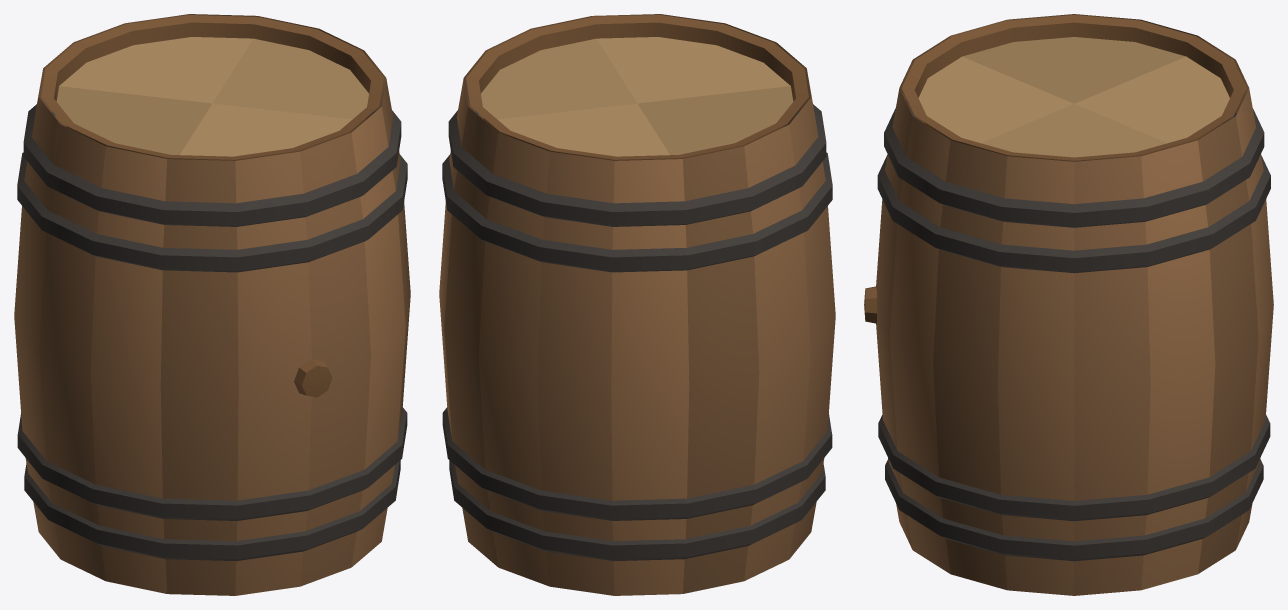
Rendered from market-barrel.glb.
The picture shows the model from 3 angles, left to right: view 1: azimuth 30°, elevation 25°; view 2: azimuth 150°, elevation 25°; view 3: azimuth 270°, elevation 25°; orthographic projection.
Parts seen in each view (by area): view 1: market-barrel; view 2: market-barrel; view 3: market-barrel.
Boxes of the visible parts, left/top/right/bottom form: market-barrel: left=14, top=14, right=410, bottom=595; market-barrel: left=439, top=14, right=835, bottom=595; market-barrel: left=864, top=14, right=1273, bottom=595.
Size of the model in its own units: 9.71 by 11.66 by 9.97.
